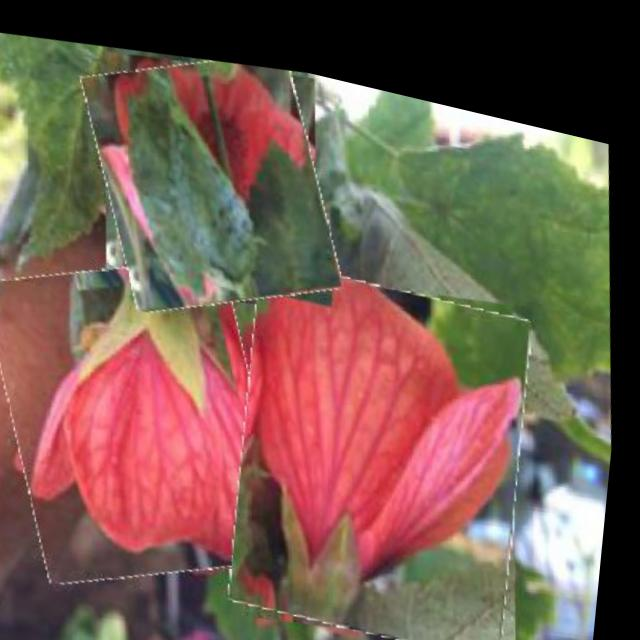Flower: (212, 220, 563, 640), (0, 210, 311, 615), (72, 17, 355, 335)
